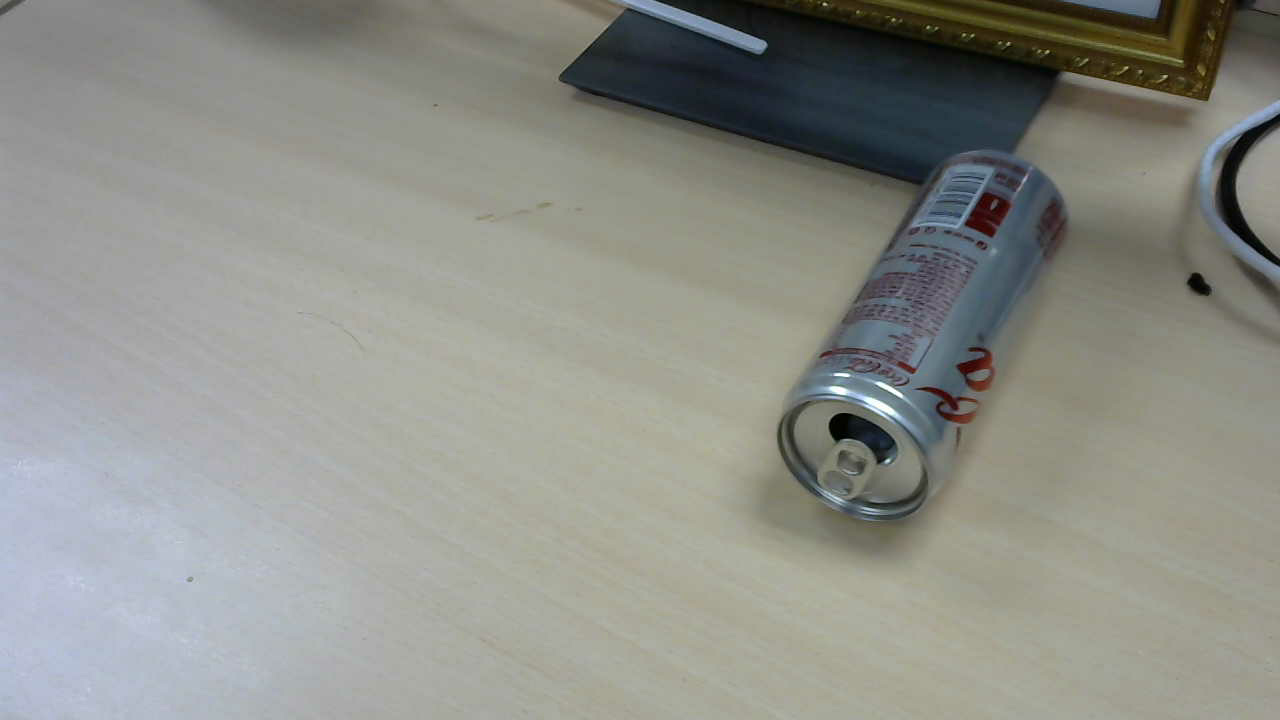Coca_Cola: (776, 153, 1078, 527)
